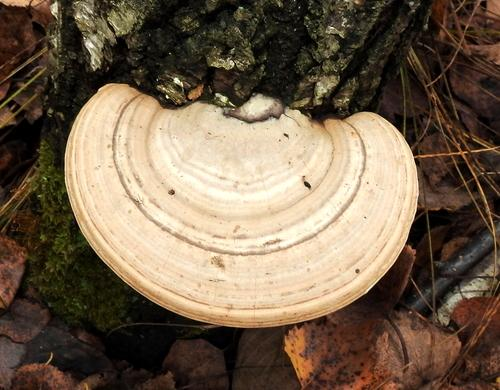Ganoderma - Fruit Body: (63, 80, 418, 331)
